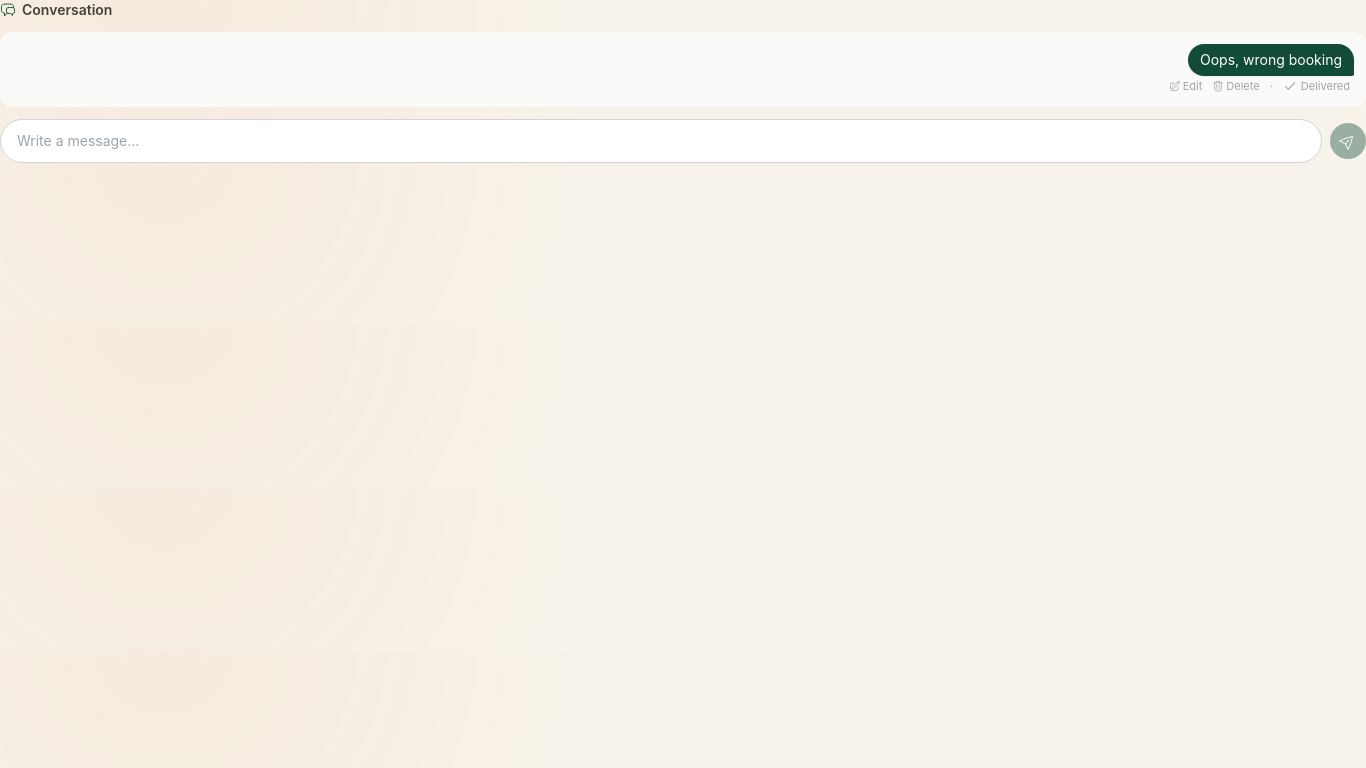
Scenario: BookingMessageThread › deletes an own message after confirming, showing a "deleted" placeholder
Expected: the text "Oops, wrong booking" is shown, x1=1200 y1=50 x2=1342 y2=70
Step 1. Click the button "Delete" → click(1236, 86), box x1=1212 y1=78 x2=1260 y2=94
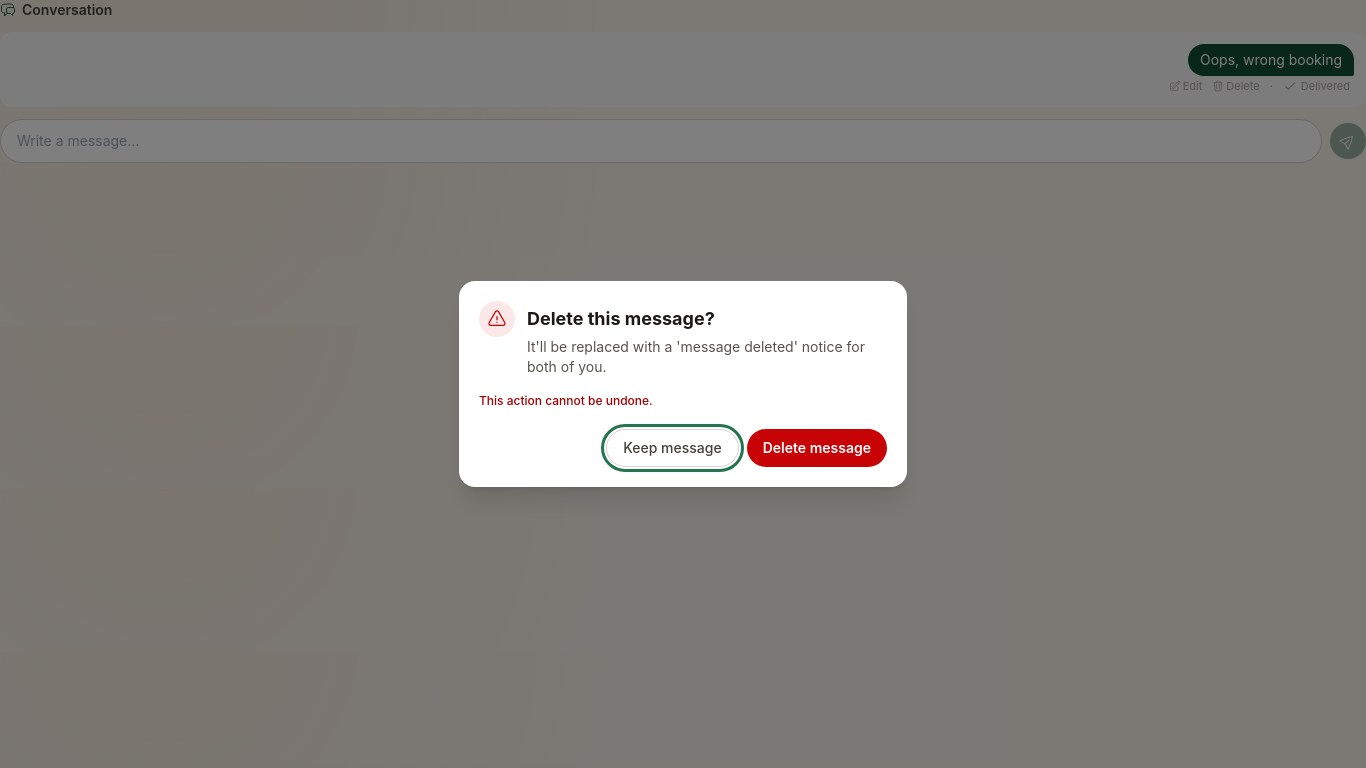
Step 2. Click the button "Delete message" → click(817, 448), box x1=747 y1=429 x2=887 y2=467
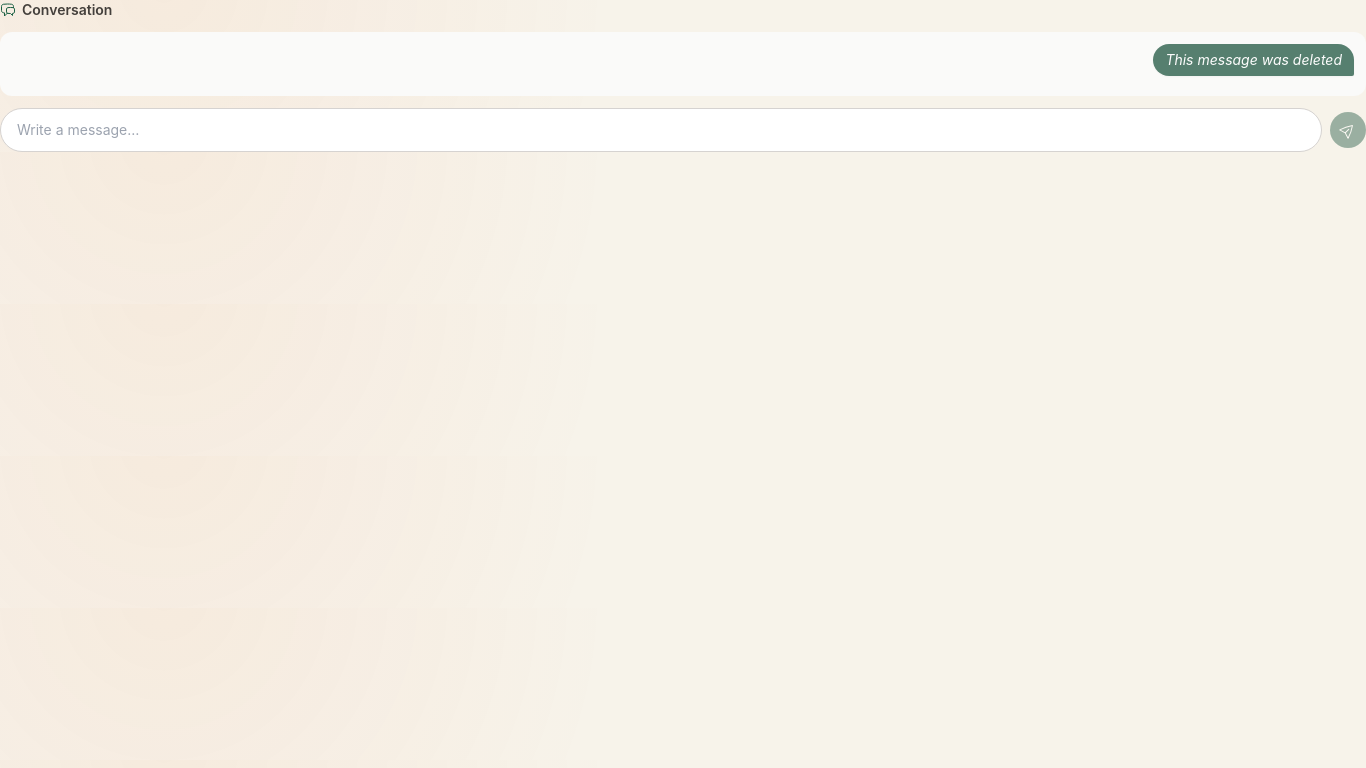
Now the text "This message was deleted" is shown, box x1=1165 y1=50 x2=1342 y2=70
Now the text "Oops, wrong booking" is gone
